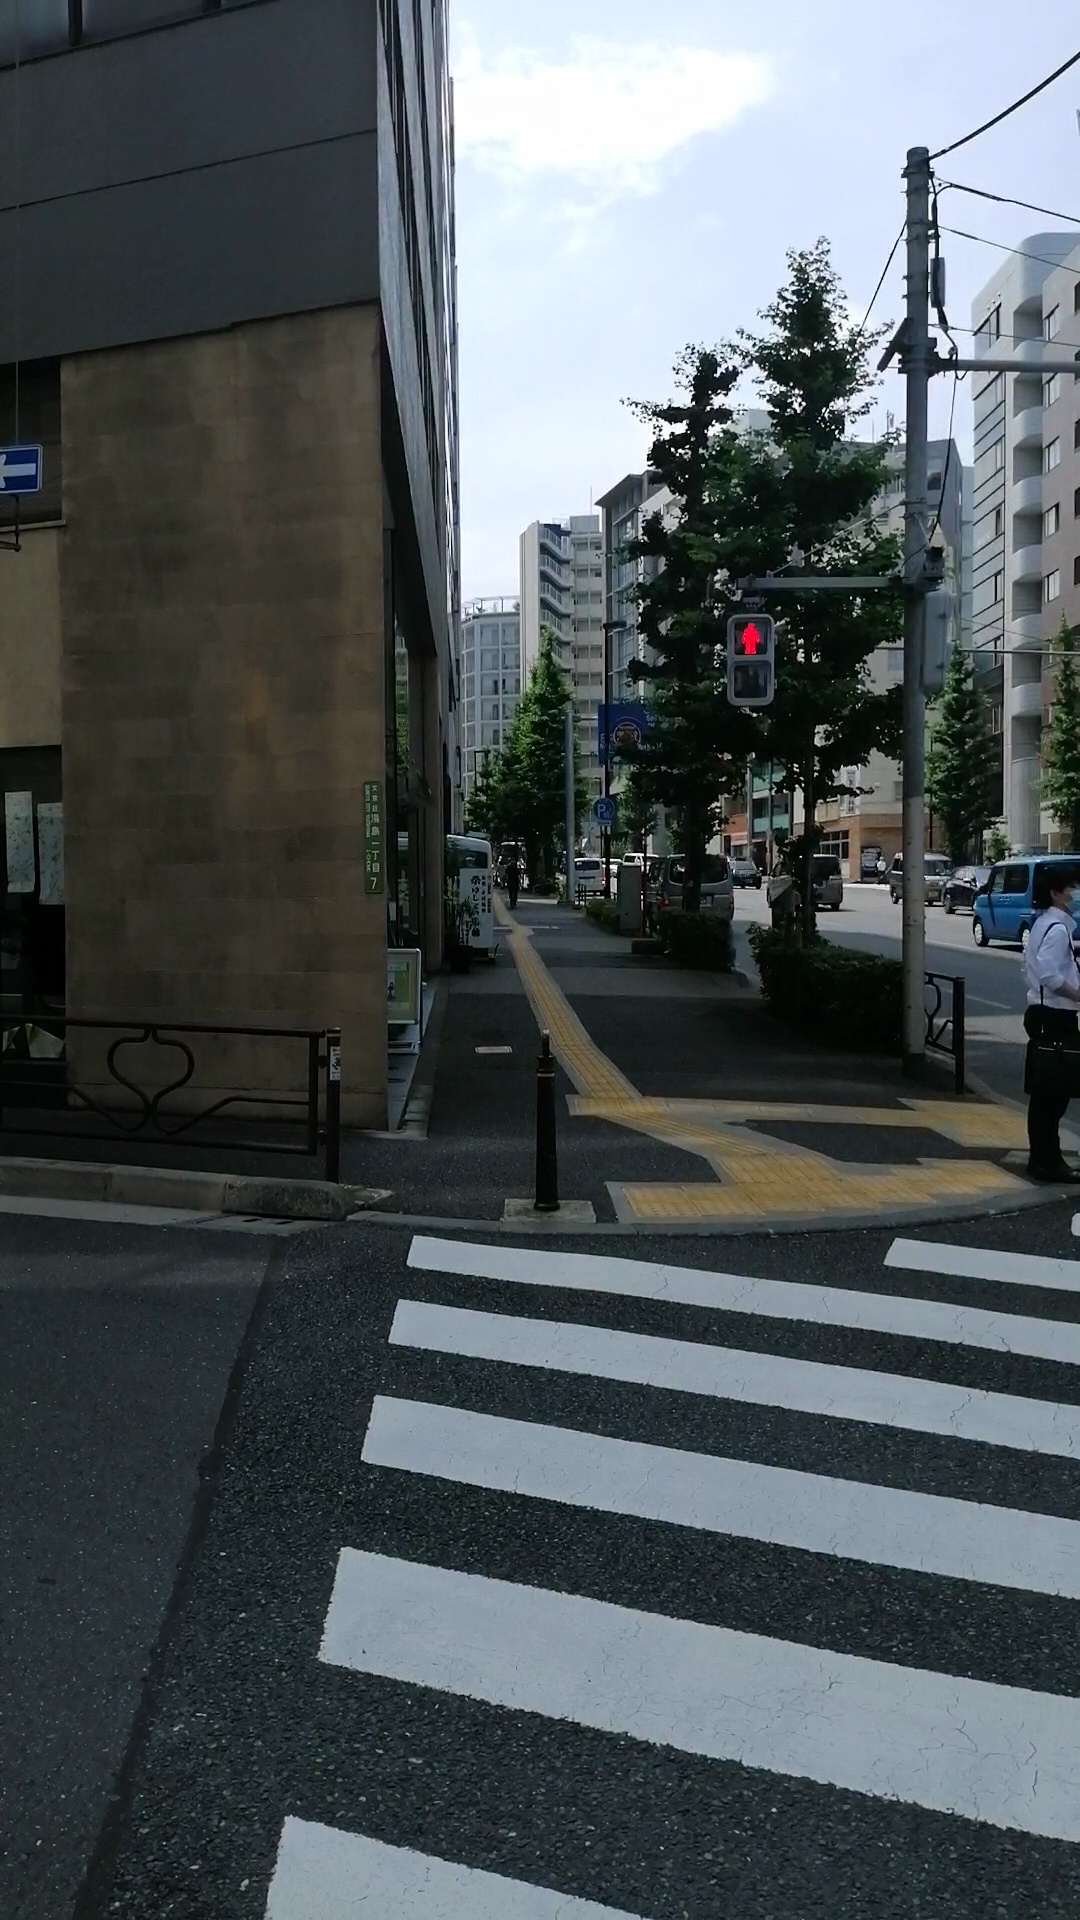red: (724, 612, 775, 705)
